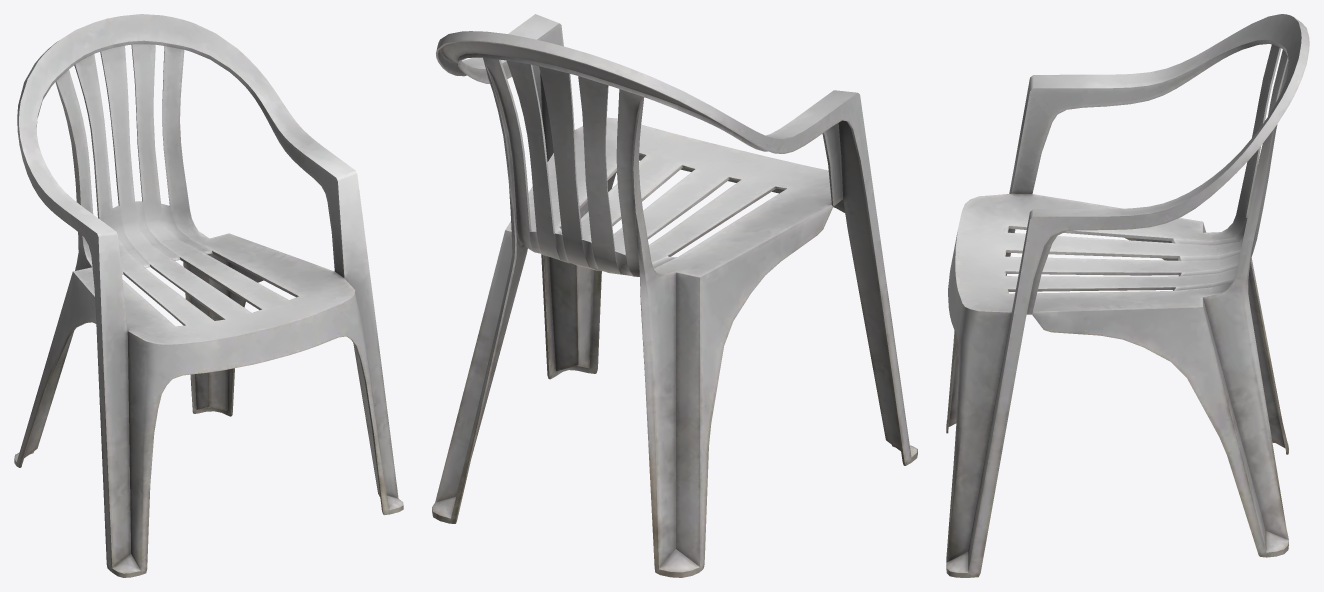
Rendered from monobloc.glb.
3 renders of one model, left to right at view 1: azimuth 30°, elevation 25°; view 2: azimuth 150°, elevation 25°; view 3: azimuth 270°, elevation 25°, orthographic. The views are drawn at different scales.
Parts seen in each view (by area): view 1: plastic_monobloc_chair_01; view 2: plastic_monobloc_chair_01; view 3: plastic_monobloc_chair_01.
Part boxes in pixels (x1=…): plastic_monobloc_chair_01: x1=14, y1=14, x2=403, y2=577; plastic_monobloc_chair_01: x1=432, y1=14, x2=917, y2=577; plastic_monobloc_chair_01: x1=946, y1=14, x2=1309, y2=577.
Bounding box in the file's own units: 0.6419 × 0.8798 × 0.6276.
Materials: 1 (1 with a texture image).
